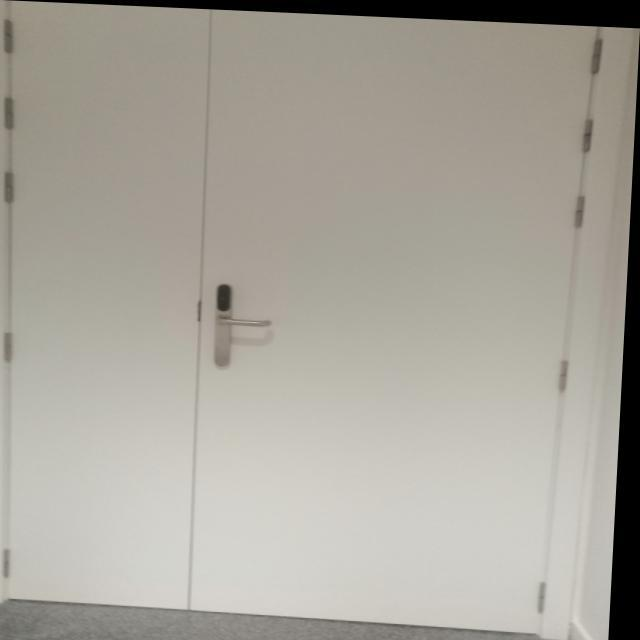door_handle: (216, 312, 276, 327)
